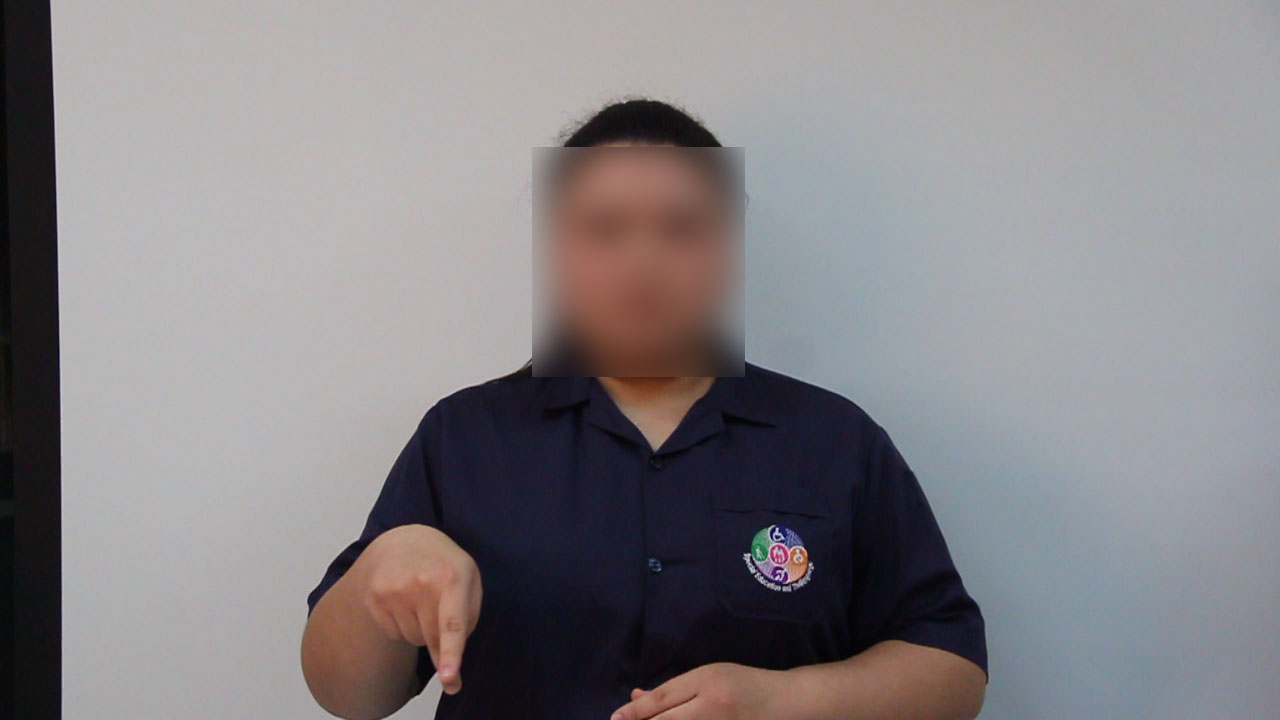por: (355, 520, 497, 702)
